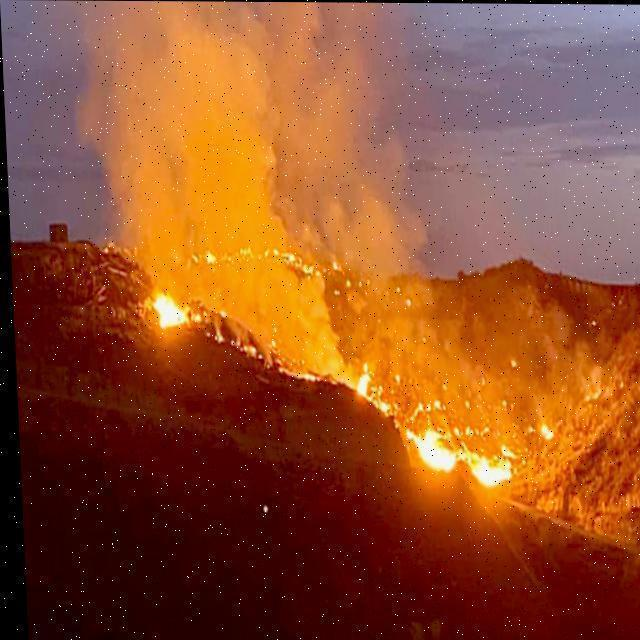Fire: (402, 399, 514, 489), (148, 292, 202, 333), (262, 246, 322, 278), (354, 370, 388, 415), (280, 366, 313, 382), (580, 386, 598, 404), (234, 244, 253, 260), (202, 246, 214, 267), (537, 420, 550, 438), (208, 328, 221, 343), (242, 344, 254, 356), (328, 258, 341, 269), (189, 250, 196, 264), (506, 358, 512, 367)
